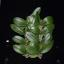leaf: (9, 24, 26, 34), (41, 41, 54, 53), (12, 17, 28, 26), (12, 45, 28, 54), (26, 32, 39, 43), (26, 46, 40, 56), (27, 24, 41, 34), (41, 23, 55, 33), (40, 34, 53, 44), (11, 36, 26, 44), (41, 16, 53, 25), (34, 42, 40, 52), (36, 11, 41, 23), (30, 15, 35, 24)
